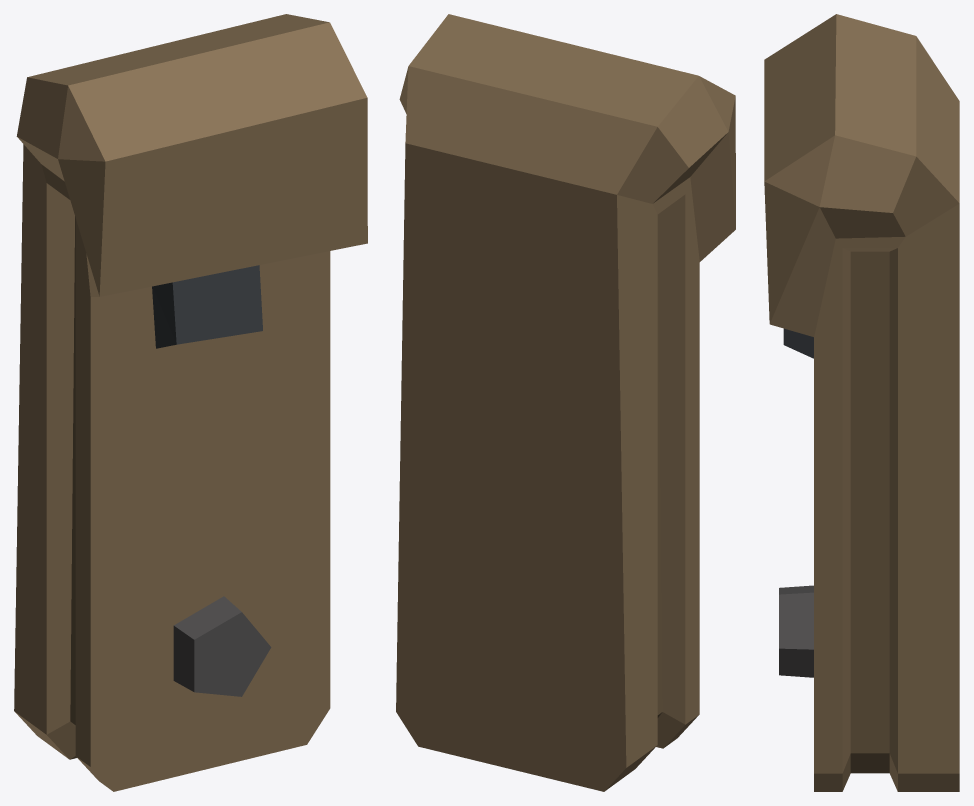
The model's file is SM_Chr_Attach_Pouch_07.fbx.
The picture shows the model from 3 angles, left to right: view 1: azimuth 30°, elevation 25°; view 2: azimuth 150°, elevation 25°; view 3: azimuth 270°, elevation 25°; orthographic projection. The views are drawn at different scales.
Visible parts, largest first — view 1: SM_Chr_Attach_Pouch_07; view 2: SM_Chr_Attach_Pouch_07; view 3: SM_Chr_Attach_Pouch_07.
Boxes of the visible parts, box(x1,y1,x2,y2) form: SM_Chr_Attach_Pouch_07: box(14, 14, 367, 791); SM_Chr_Attach_Pouch_07: box(396, 14, 735, 791); SM_Chr_Attach_Pouch_07: box(764, 14, 959, 791).
Bounding box in the file's own units: 10.28 × 22.96 × 6.05.
